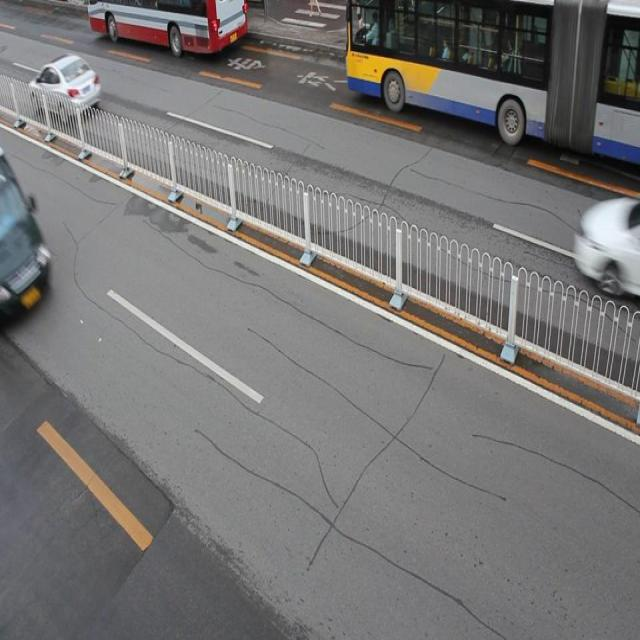car: (572, 195, 640, 298), (28, 53, 100, 124)
truck: (1, 155, 52, 321)
van: (344, 1, 640, 166), (85, 1, 244, 58)
